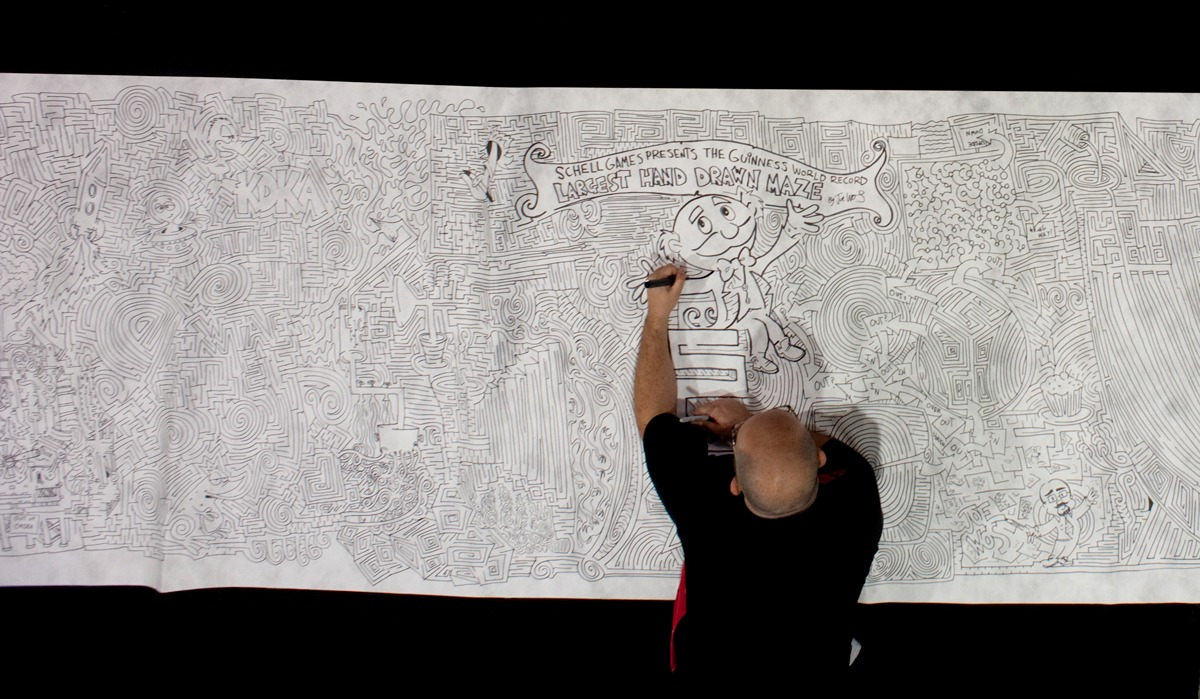maze: (5, 98, 450, 552), (900, 128, 1199, 473), (450, 238, 610, 576)
